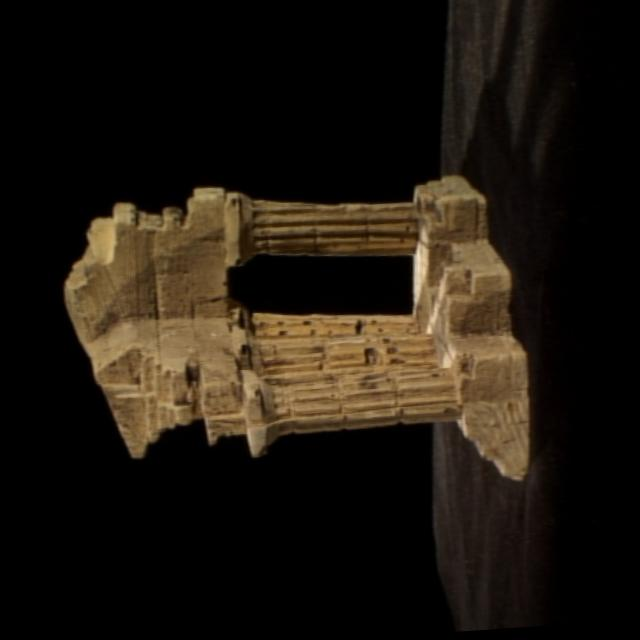Instance-Segmentation: (64, 175, 529, 479)
